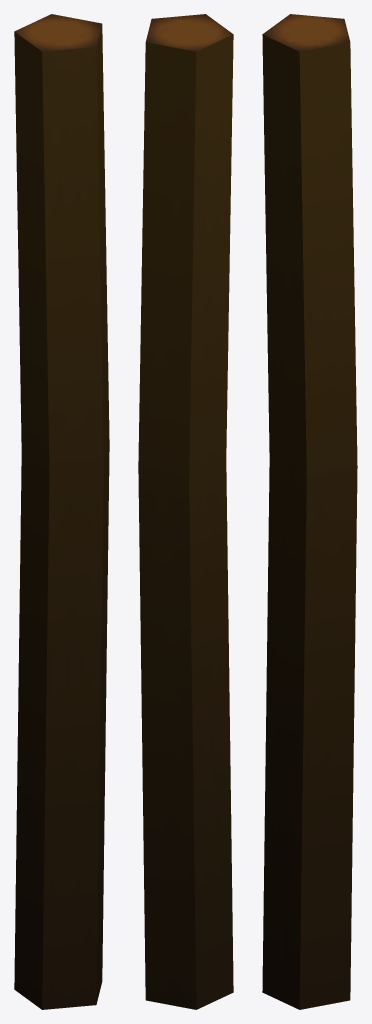
Rendered from Stick_B.fbx.
3 renders of one model, left to right at view 1: azimuth 30°, elevation 25°; view 2: azimuth 210°, elevation 25°; view 3: azimuth 330°, elevation 25°, orthographic.
Visible parts, largest first — view 1: Stick_B; view 2: Stick_B; view 3: Stick_B.
Part boxes in pixels (x1,y1,x2,y2): Stick_B: [14, 14, 109, 1009]; Stick_B: [138, 14, 233, 1009]; Stick_B: [262, 14, 357, 1009].
Bounding box in the file's own units: 8.62 × 97.13 × 8.27.
